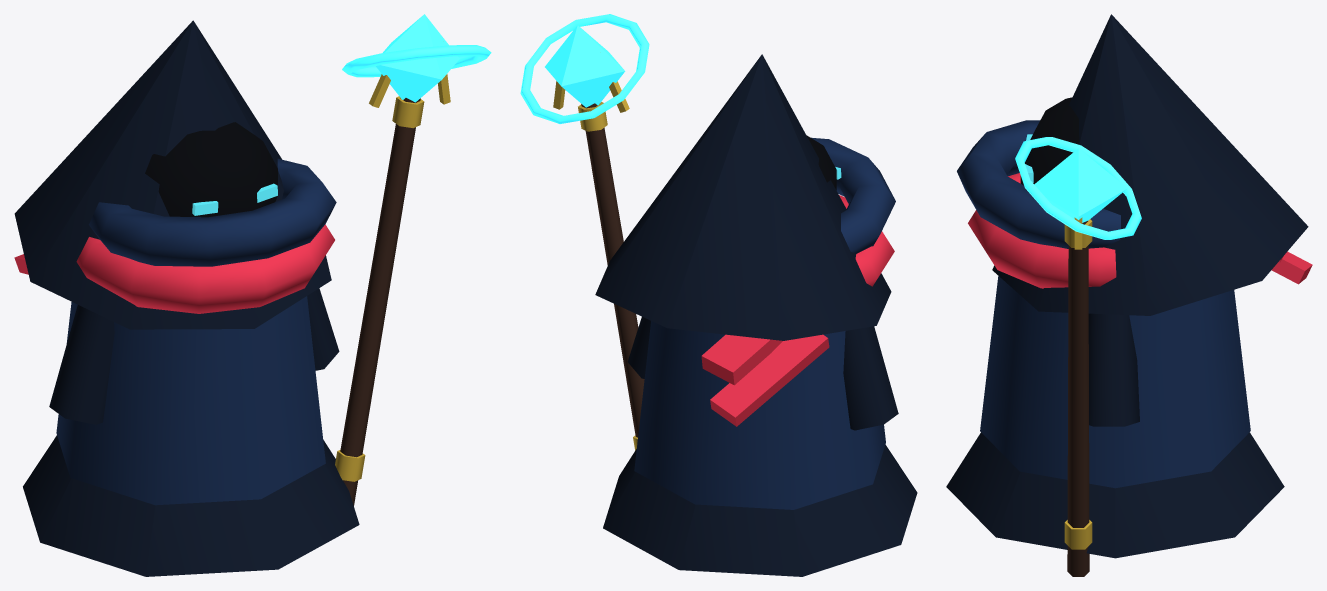
The model's file is shadow.glb.
3 renders of one model, left to right at view 1: azimuth 30°, elevation 25°; view 2: azimuth 150°, elevation 25°; view 3: azimuth 270°, elevation 25°, orthographic. The views are drawn at different scales.
Parts seen in each view (by area): view 1: hero_shadow; view 2: hero_shadow; view 3: hero_shadow.
Boxes of the visible parts, x1,y1,x2,y2 form: hero_shadow: (14,14,491,576); hero_shadow: (520,14,917,576); hero_shadow: (946,14,1312,576).
Size of the model in its own units: 1.54 by 1.78 by 1.19.
